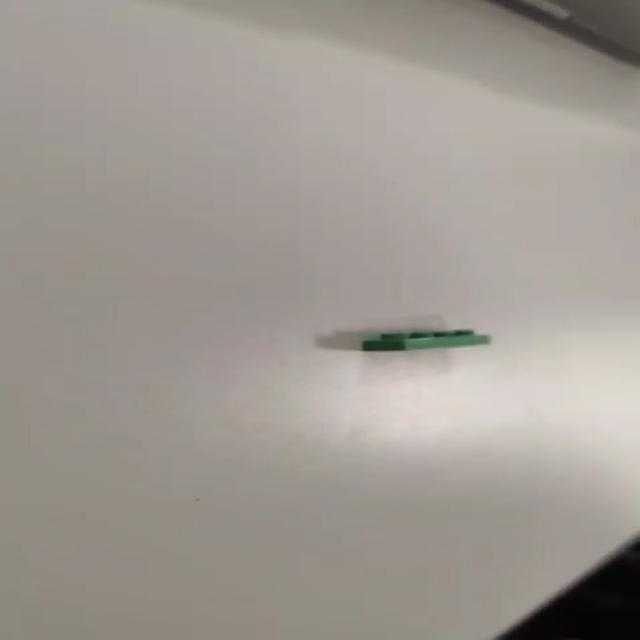C4x1x0: (362, 322, 498, 358)
